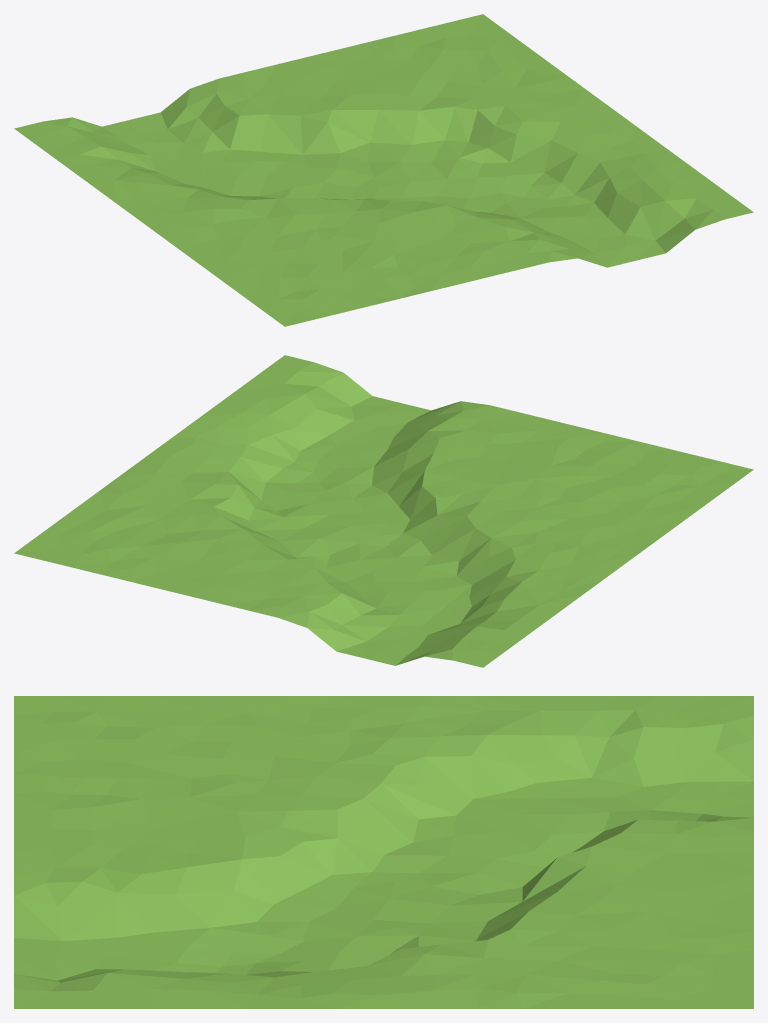
File: MT_River_M_c_02_R_LOD.fbx
3 renders of one model, top to bottom at view 1: azimuth 30°, elevation 25°; view 2: azimuth 150°, elevation 25°; view 3: azimuth 270°, elevation 25°, orthographic. The views are drawn at different scales.
Visible parts, largest first — view 1: MT_River_M_c_02_R_LOD0; view 2: MT_River_M_c_02_R_LOD0; view 3: MT_River_M_c_02_R_LOD0.
Part boxes in pixels (x1,y1,x2,y2): MT_River_M_c_02_R_LOD0: [14, 14, 753, 326]; MT_River_M_c_02_R_LOD0: [14, 355, 753, 667]; MT_River_M_c_02_R_LOD0: [14, 696, 753, 1008].
Size of what is drawn, in the model's own units: 50 by 2.54 by 50.
